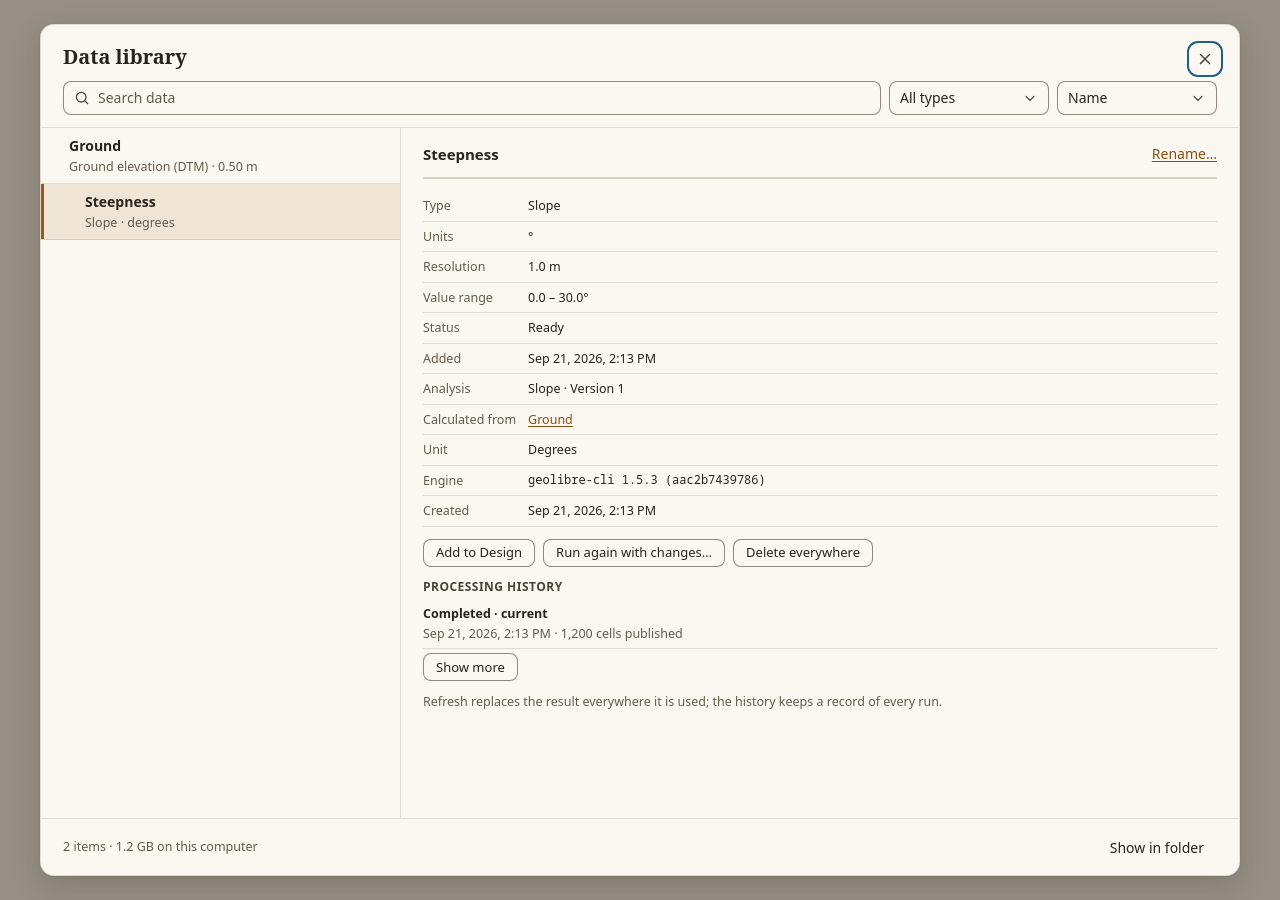
Test: Data library, Import and Analyze dialogs › the Data library sheet › shows processing history with a result and pages it
Expected: the element named "Processing history" shows "Completed", [423,605,491,622]
Expected: the element named "Processing history" shows "1,200 cells published", [561,625,683,642]
Click the button "Show more": {"x": 470, "y": 667} [423,653,518,681]
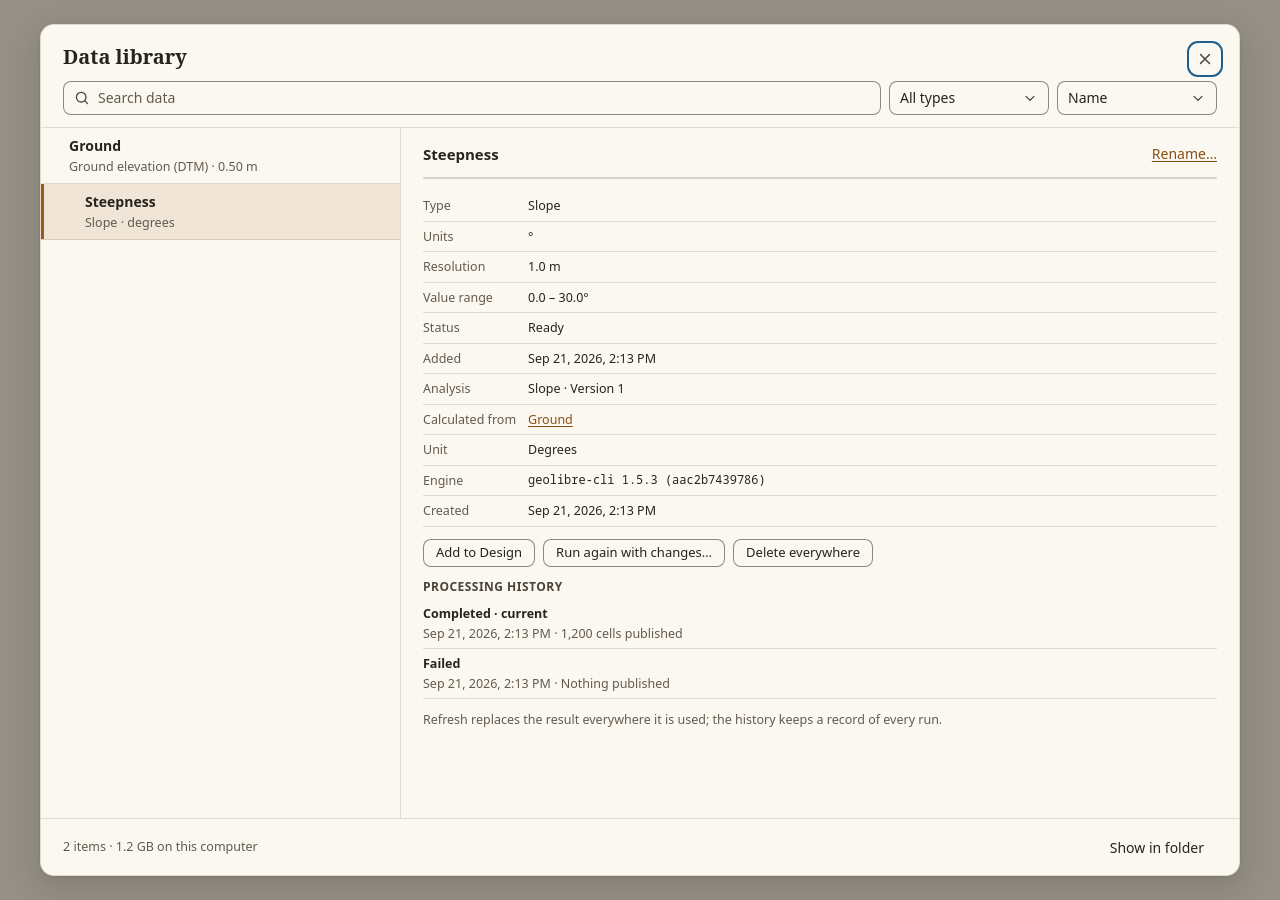
Now the number of list items is 2, box [423,599,1217,649]; [423,649,1217,699]
Now the element named "Processing history" shows "Failed", box [423,655,460,672]
Now the element named "Processing history" shows "Nothing published", box [561,675,670,692]
